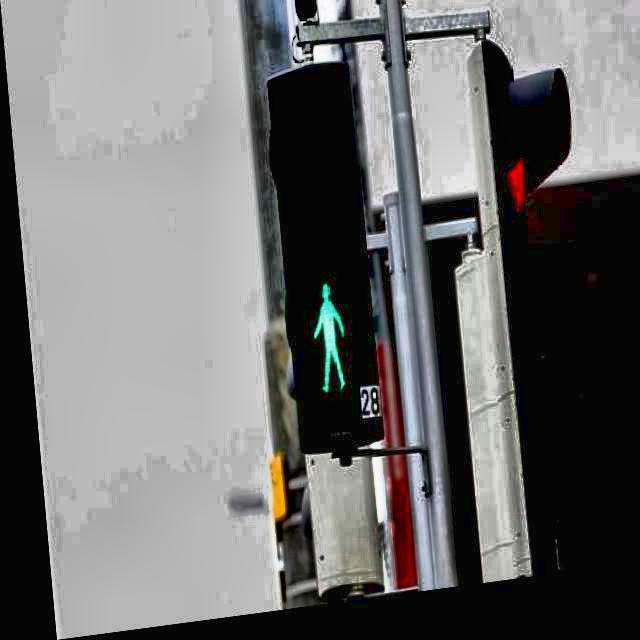semaforo pedestre: (187, 32, 467, 531)
